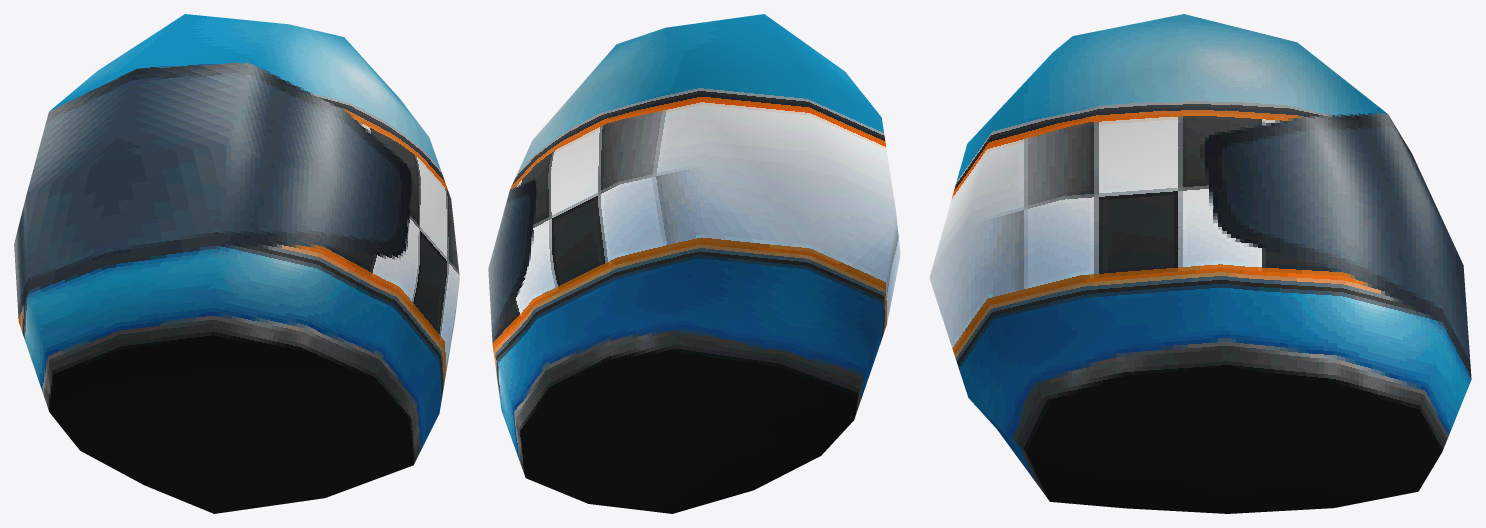
The model's file is ps2_save-icons_roomzoomraceforimpact.glb.
3 renders of one model, left to right at view 1: azimuth 30°, elevation 25°; view 2: azimuth 150°, elevation 25°; view 3: azimuth 270°, elevation 25°, orthographic. The views are drawn at different scales.
Parts seen in each view (by area): view 1: list.ico; view 2: list.ico; view 3: list.ico.
Boxes of the visible parts, x1=… form: list.ico: x1=14, y1=14, x2=459, y2=513; list.ico: x1=488, y1=14, x2=900, y2=513; list.ico: x1=929, y1=14, x2=1471, y2=513.
Size of the model in its own units: 3.76 by 4.3 by 4.95.
Materials: 1 (1 with a texture image).
